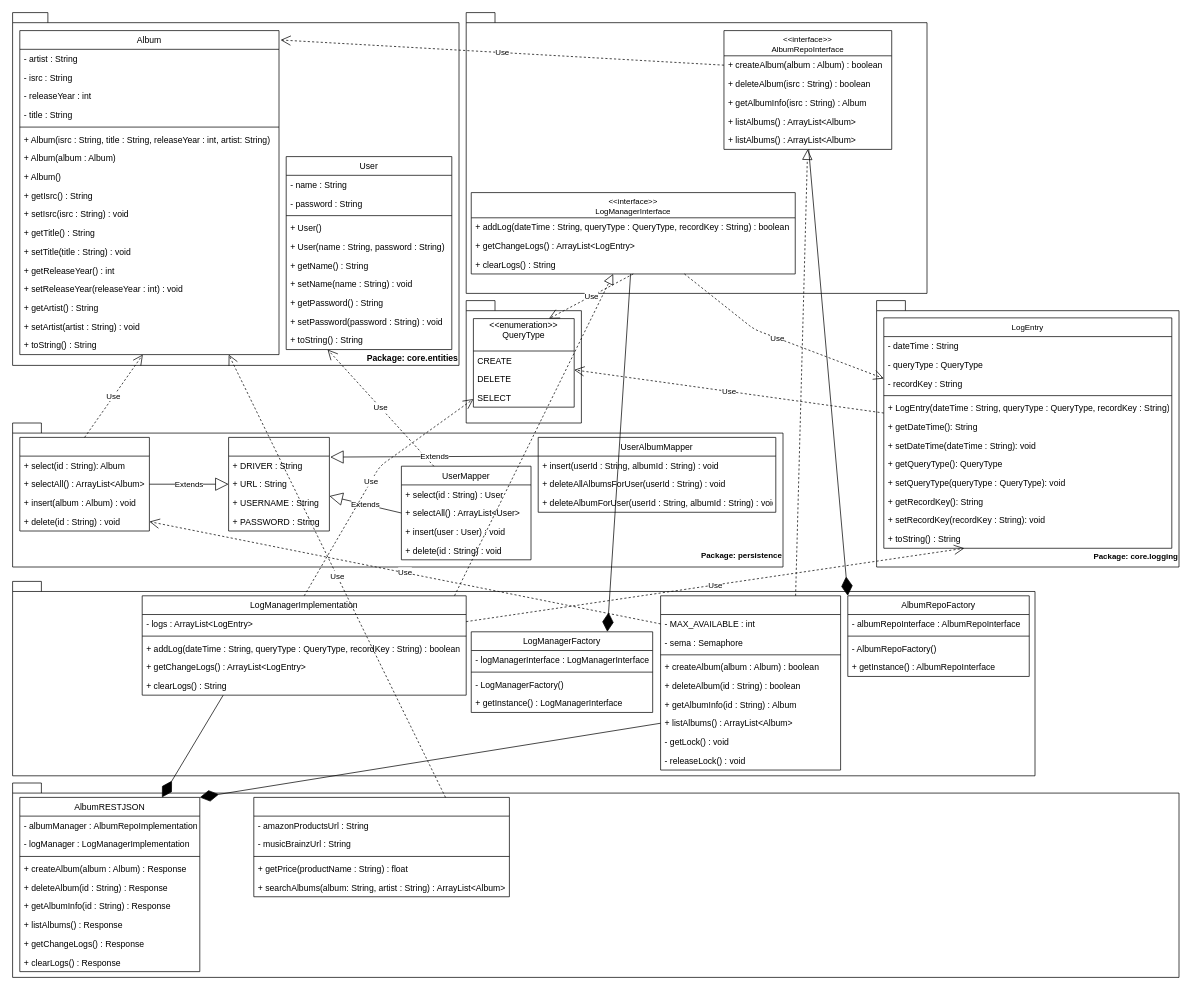
Image size: 1192x990. Some labels were removed from this diagram. Here are the shapes that lost their labels. From the top down, the box of each, then its label:
(465, 12, 927, 293): Package: core.interfaces
(465, 300, 581, 423): Package: core.enums
(19, 437, 149, 531): AlbumMapper
(228, 437, 329, 531): DataMapper
(12, 581, 1035, 776): Package: repository
(660, 595, 841, 770): AlbumRepoImplementation
(253, 797, 509, 897): AlbumDataAggregator
(12, 782, 1179, 977): Package: service
